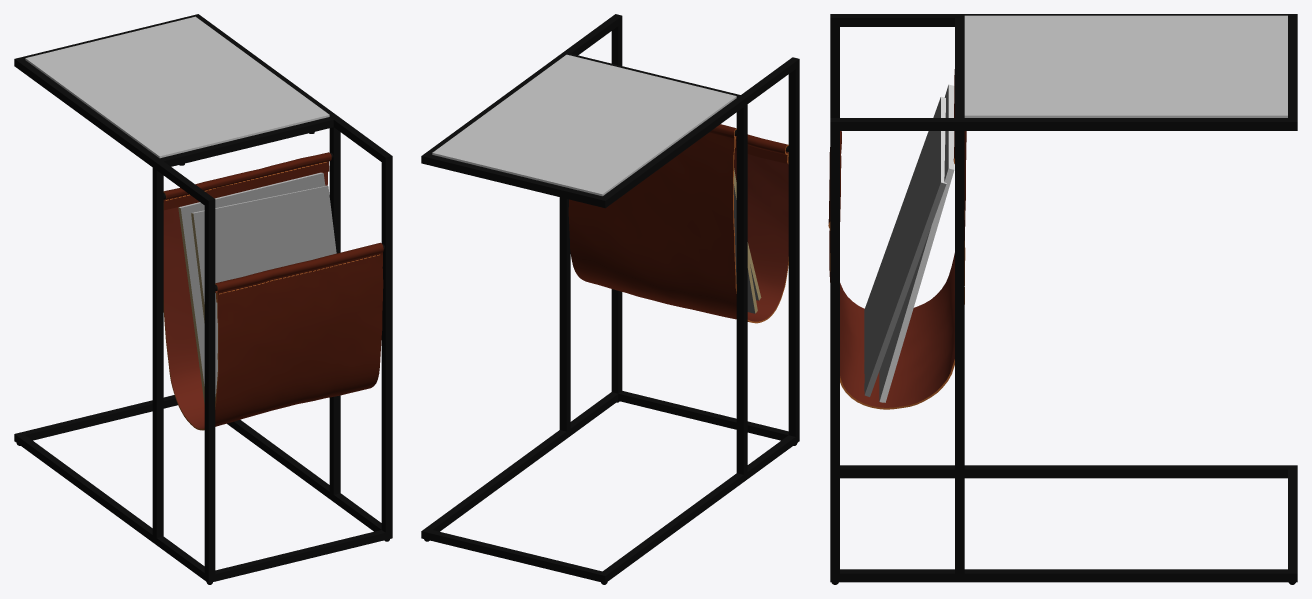
Rendered from MP1_Side_Table_01.FBX.
3 views of the same model, side by side, from view 1: azimuth 30°, elevation 25°; view 2: azimuth 150°, elevation 25°; view 3: azimuth 270°, elevation 25° (orthographic). The views are drawn at different scales.
Parts seen in each view (by area): view 1: Side_Table_01; view 2: Side_Table_01; view 3: Side_Table_01.
Boxes of the visible parts, <box> form: Side_Table_01: <box>14,14,392,584</box>; Side_Table_01: <box>421,14,799,584</box>; Side_Table_01: <box>828,14,1297,584</box>.
Size of the model in its own units: 268 by 541 by 492.
